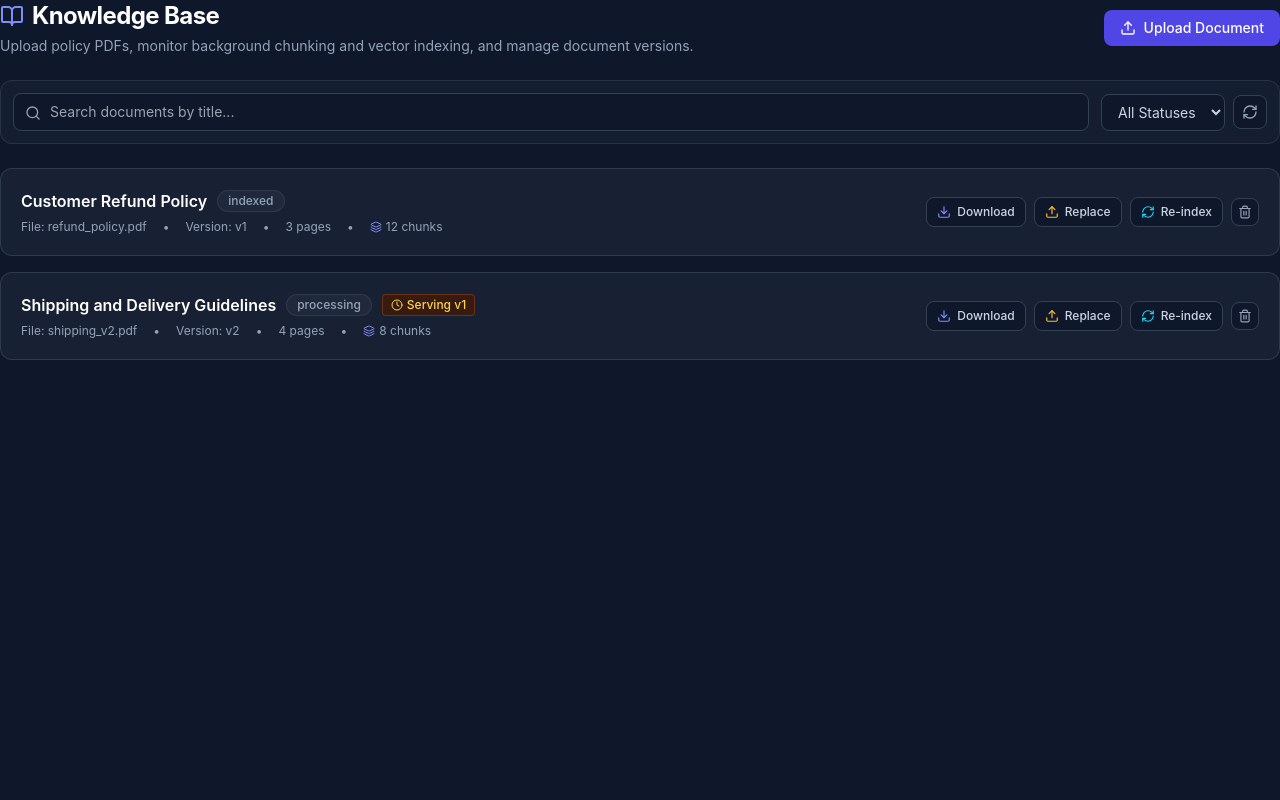
KnowledgeDocuments Page Component › opens the upload modal when Upload Document button is clicked
Expected: the heading "Customer Refund Policy" is shown, [21, 189, 207, 213]
Click the button "Upload Document": (1192, 28) [1104, 10, 1279, 46]
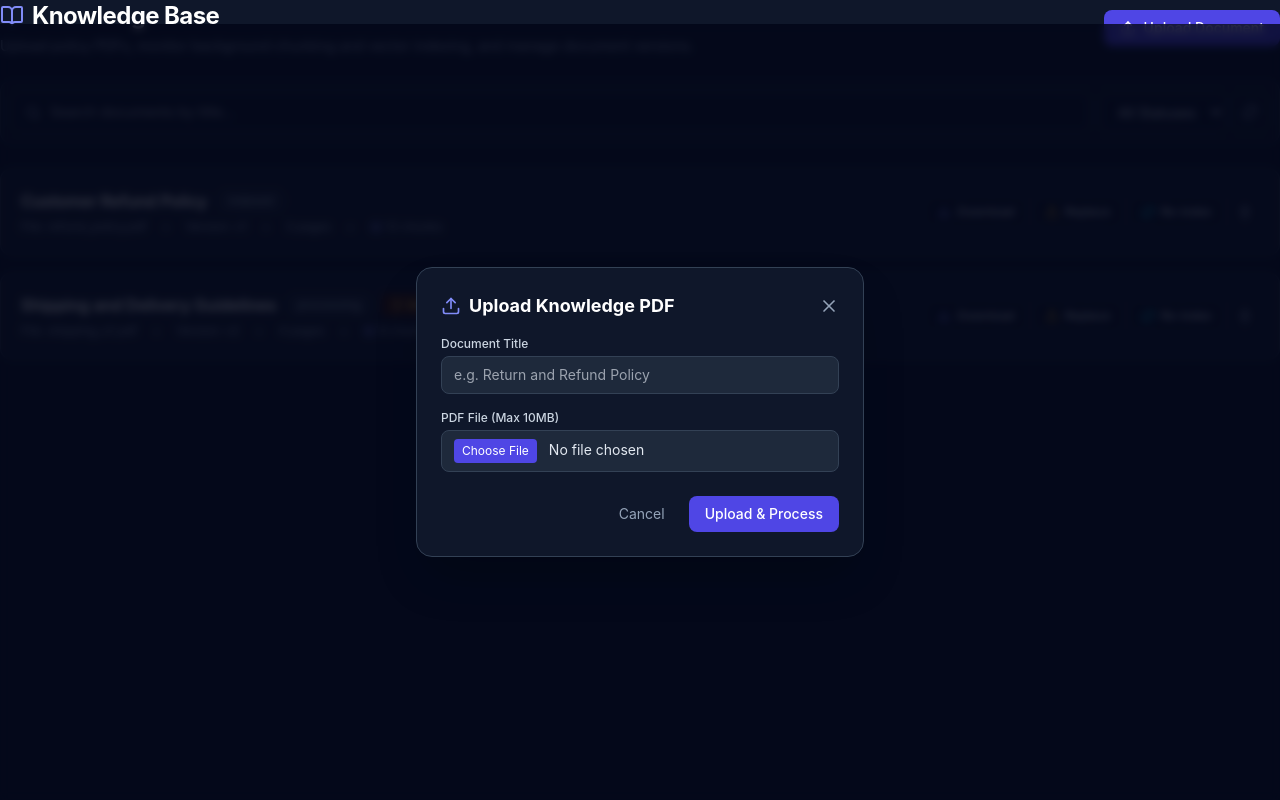
Expected: the heading "Upload Knowledge PDF" is shown, [441, 292, 674, 320]
Expected: the field with placeholder "e.g. Return and Refund Policy" is shown, [441, 356, 839, 394]
